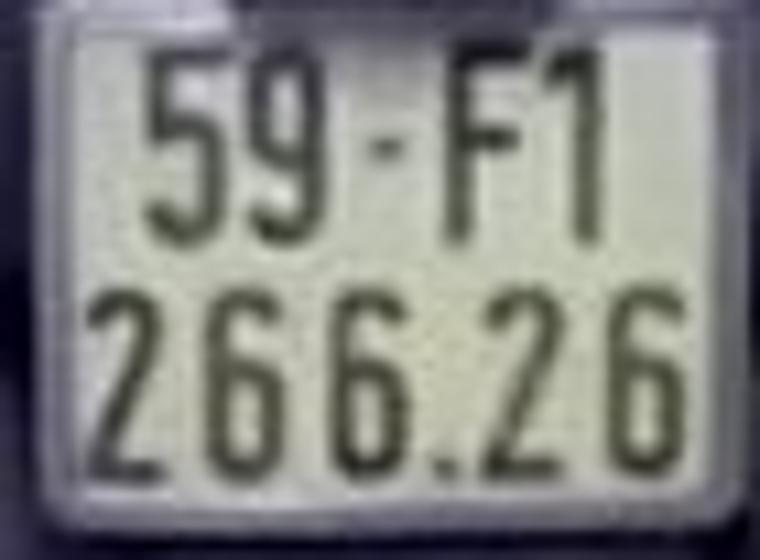-: (363, 135, 402, 162)
.: (431, 455, 460, 484)
1: (540, 43, 601, 240)
2: (480, 284, 561, 483), (81, 294, 164, 481)
5: (139, 44, 225, 248)
6: (603, 283, 688, 478), (325, 291, 411, 478), (203, 284, 279, 483)
9: (246, 42, 322, 241)
F: (442, 40, 529, 239)
